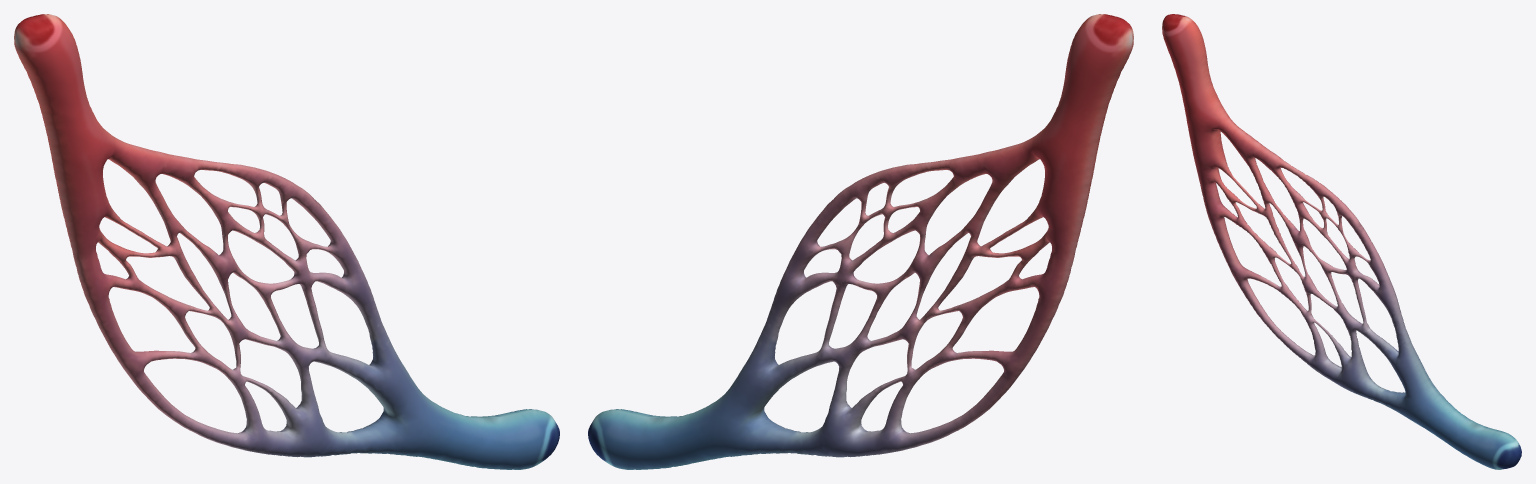
File: capilares.glb
The picture shows the model from 3 angles, left to right: view 1: azimuth 30°, elevation 25°; view 2: azimuth 150°, elevation 25°; view 3: azimuth 330°, elevation 25°; orthographic projection. The views are drawn at different scales.
Visible parts, largest first — view 1: Object_4; view 2: Object_4; view 3: Object_4.
Boxes of the visible parts, x1,y1,x2,y2 form: Object_4: (14, 14, 559, 469); Object_4: (588, 14, 1133, 469); Object_4: (1162, 14, 1521, 469).
Size of the model in its own units: 7.38 by 7.4 by 0.6626.
Materials: 1 (1 with a texture image).
